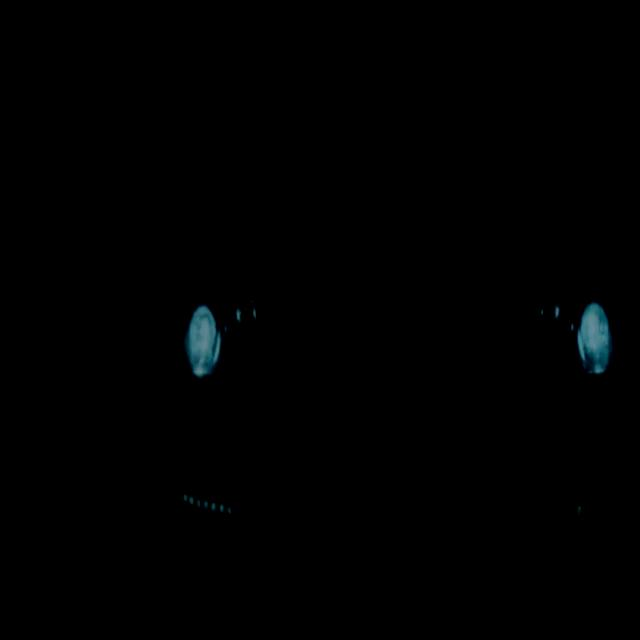Car: (157, 67, 640, 608)
